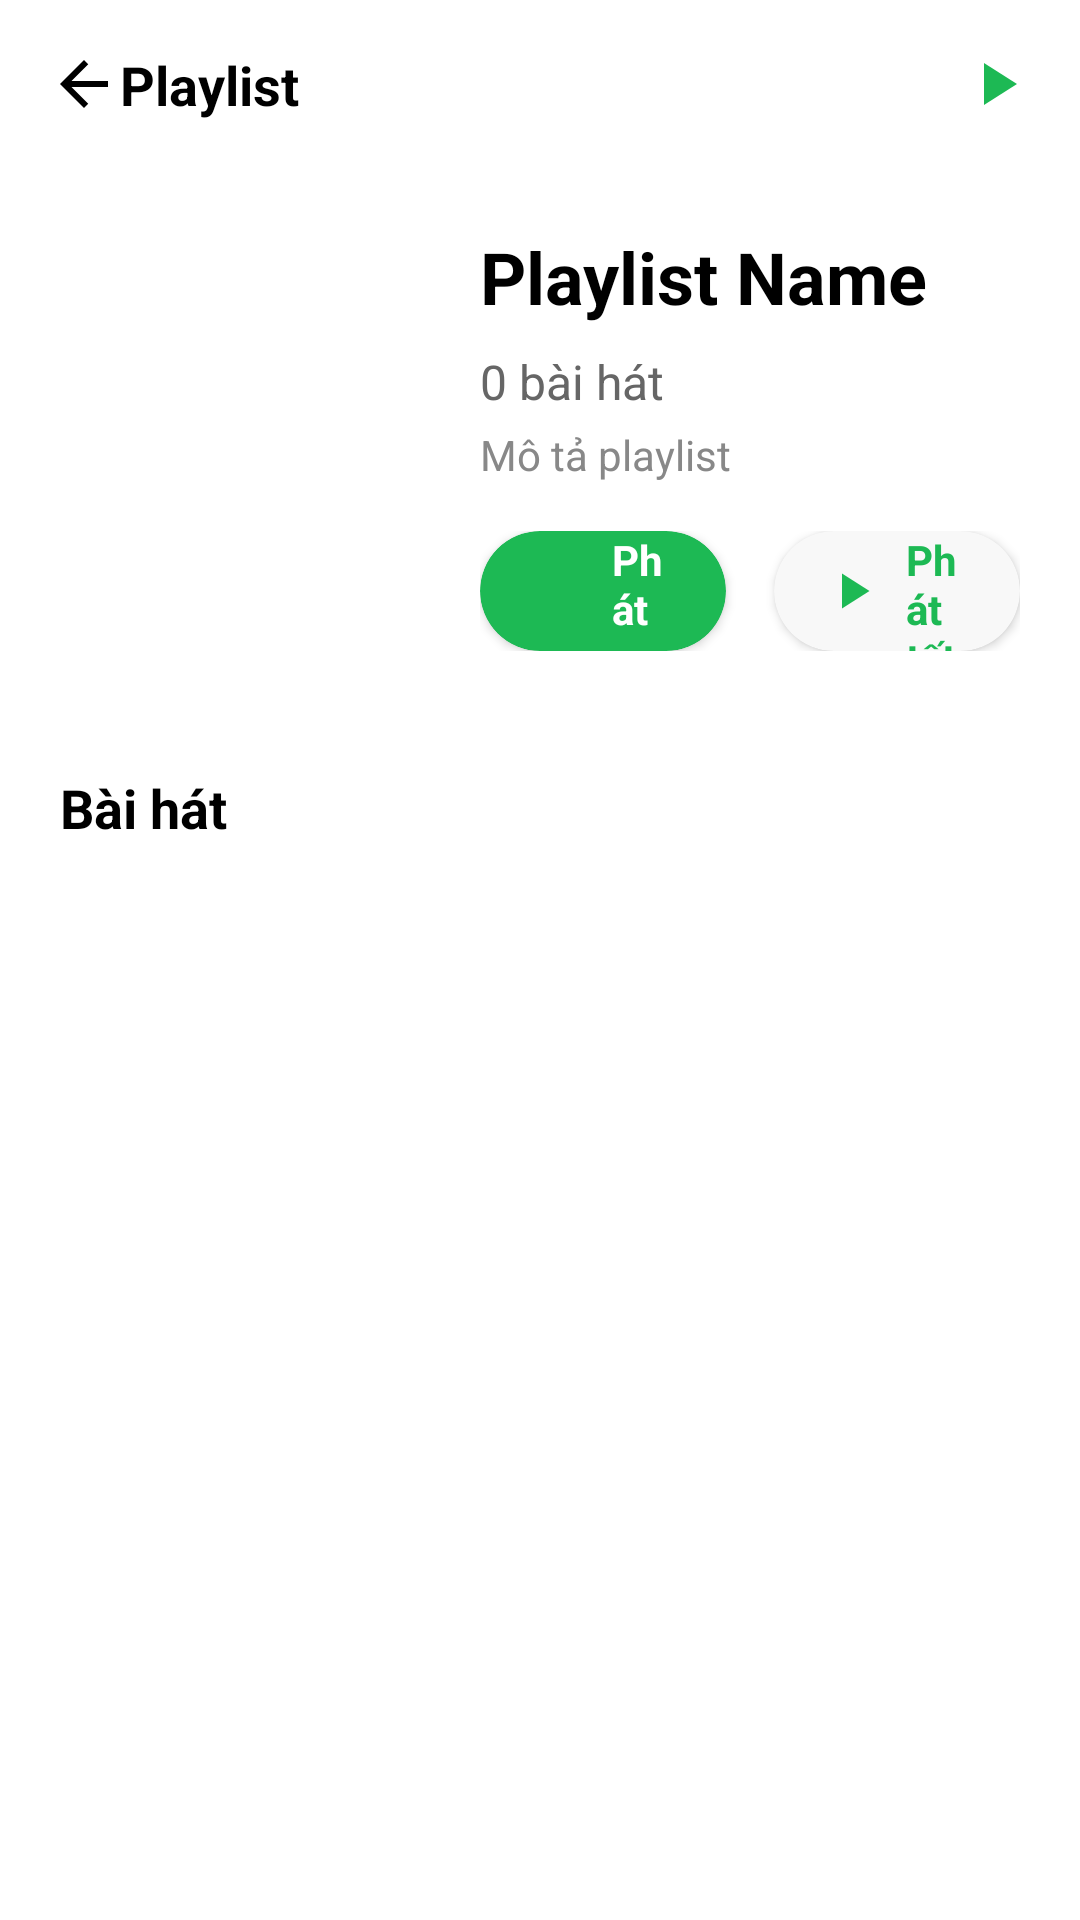

Icons on this 1080×1920 Android screen, each with its box as (x1, y1, x2, y2):
Back: (60, 60, 108, 108)
Play all: (984, 63, 1017, 105)
